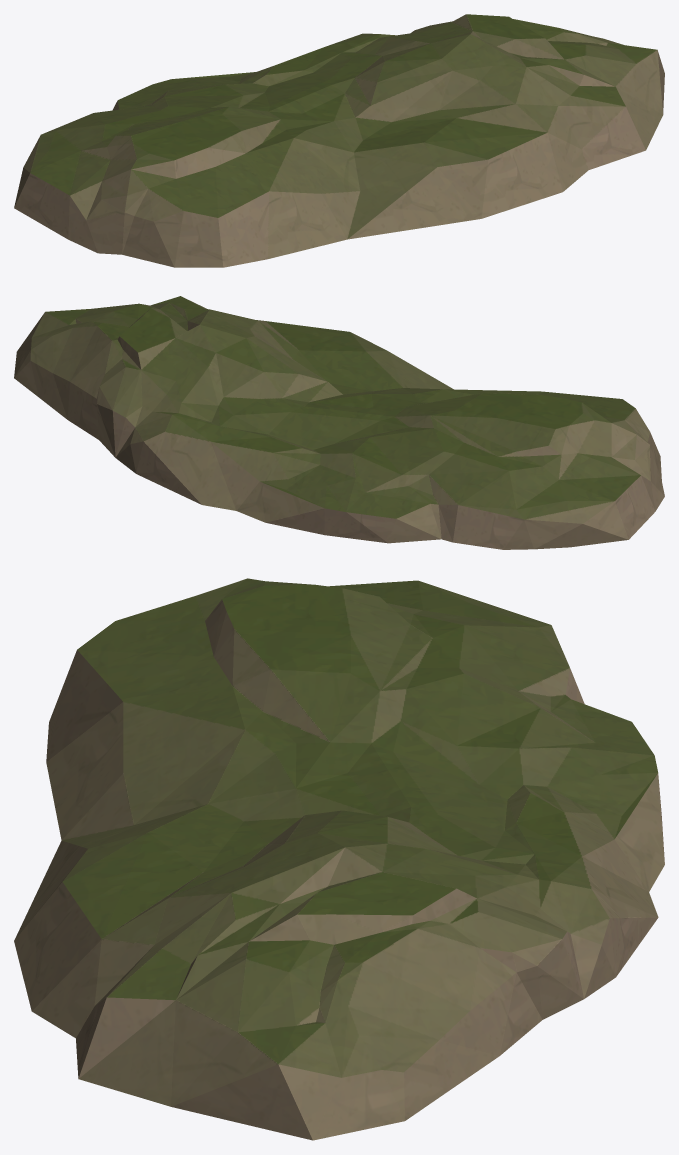
The model's file is SM_Env_Rock_Ground_02.glb.
3 views of the same model, one above another, from view 1: azimuth 30°, elevation 25°; view 2: azimuth 150°, elevation 25°; view 3: azimuth 270°, elevation 25° (orthographic). The views are drawn at different scales.
Visible parts, largest first — view 1: SM_Env_Rock_Ground_02; view 2: SM_Env_Rock_Ground_02; view 3: SM_Env_Rock_Ground_02.
Boxes of the visible parts, x1,y1,x2,y2 form: SM_Env_Rock_Ground_02: (14,14,664,267); SM_Env_Rock_Ground_02: (14,296,664,549); SM_Env_Rock_Ground_02: (14,578,664,1140).
Size of the model in its own units: 12.02 by 1.78 by 6.27.
Materials: 1 (1 with a texture image).
